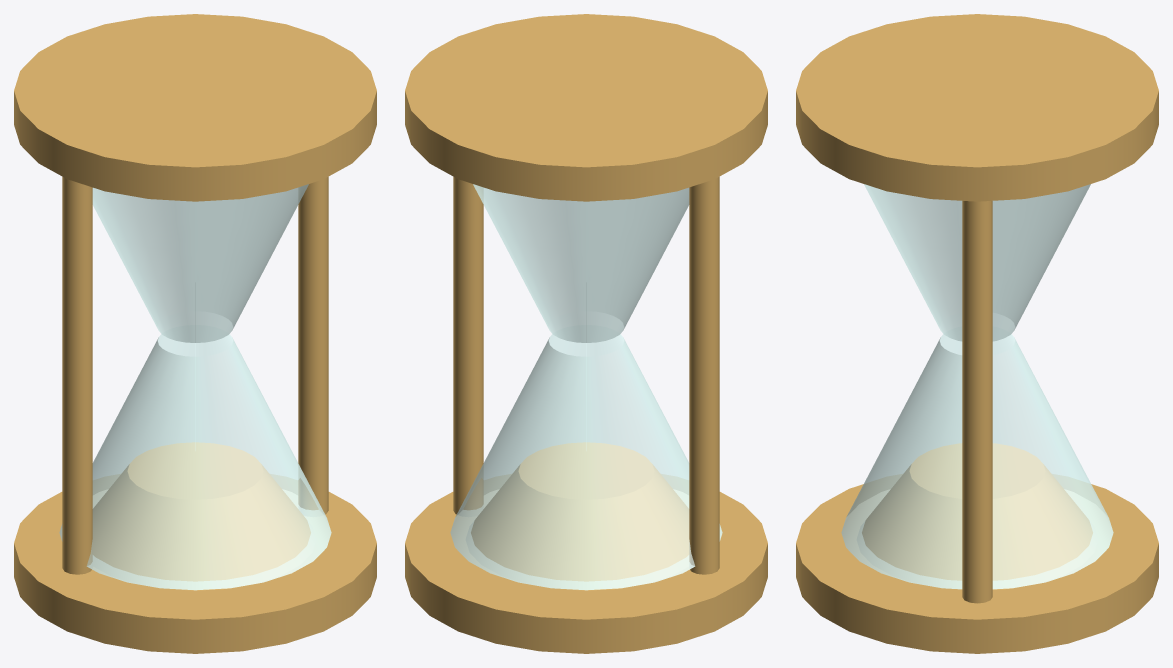
The model's file is hourglass.glb.
3 renders of one model, left to right at view 1: azimuth 30°, elevation 25°; view 2: azimuth 150°, elevation 25°; view 3: azimuth 270°, elevation 25°, orthographic.
Parts seen in each view (by area): view 1: TopCap, LowerGlass, BottomCap, Sand, UpperGlass, FrameRod, _MeshInstance3D_24; view 2: TopCap, LowerGlass, BottomCap, Sand, UpperGlass, FrameRod, _MeshInstance3D_24; view 3: TopCap, LowerGlass, BottomCap, Sand, UpperGlass, _MeshInstance3D_24.
Boxes of the visible parts, <box> form: TopCap: <box>14,14,376,201</box>; LowerGlass: <box>59,334,331,590</box>; BottomCap: <box>14,492,376,653</box>; Sand: <box>93,442,311,590</box>; UpperGlass: <box>92,184,308,342</box>; FrameRod: <box>62,176,92,574</box>; _MeshInstance3D_24: <box>298,176,328,514</box>; TopCap: <box>405,14,767,201</box>; LowerGlass: <box>450,334,722,590</box>; BottomCap: <box>405,492,767,653</box>; Sand: <box>470,442,688,590</box>; UpperGlass: <box>473,184,689,342</box>; FrameRod: <box>689,176,719,574</box>; _MeshInstance3D_24: <box>453,176,483,514</box>; TopCap: <box>796,14,1158,201</box>; LowerGlass: <box>841,334,1113,589</box>; BottomCap: <box>796,484,1158,653</box>; Sand: <box>861,443,1093,589</box>; UpperGlass: <box>864,184,1090,341</box>; _MeshInstance3D_24: <box>962,201,992,603</box>.
Bounding box in the file's own units: 0.048 × 0.071 × 0.048.
